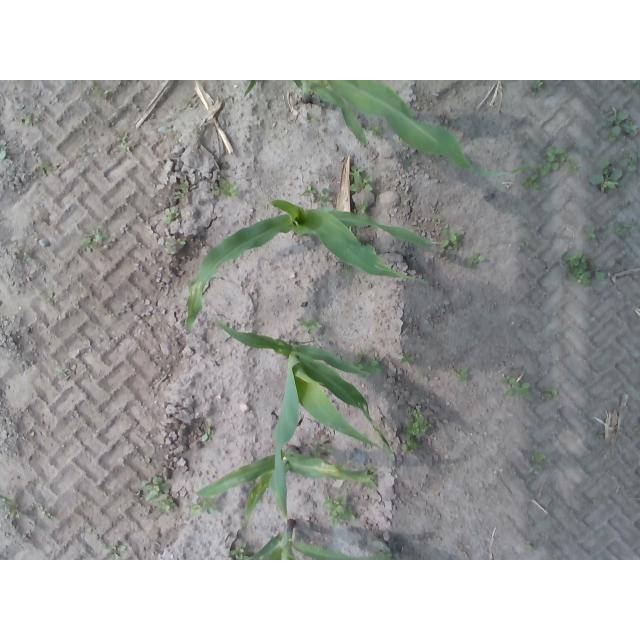Maize: (215, 318, 392, 519), (186, 199, 436, 333), (244, 80, 521, 178), (198, 448, 373, 521), (251, 520, 385, 561)
Weeds: (522, 146, 567, 185), (591, 157, 622, 187), (604, 110, 636, 138), (567, 254, 593, 287), (145, 477, 172, 499), (324, 496, 352, 516), (407, 413, 430, 435), (507, 378, 531, 398), (351, 176, 374, 191), (443, 230, 463, 247), (355, 351, 377, 366), (622, 153, 638, 172), (214, 181, 235, 195), (296, 317, 320, 329), (83, 235, 104, 248), (590, 226, 608, 240), (230, 545, 247, 559), (165, 207, 180, 222), (617, 221, 631, 237), (593, 267, 607, 281), (456, 368, 469, 381), (531, 452, 544, 464), (403, 441, 417, 452), (471, 253, 485, 264), (163, 499, 176, 510), (322, 190, 335, 201), (400, 351, 413, 362), (532, 81, 544, 92), (543, 387, 556, 397), (351, 168, 363, 177), (306, 186, 315, 195), (1, 149, 8, 159)
